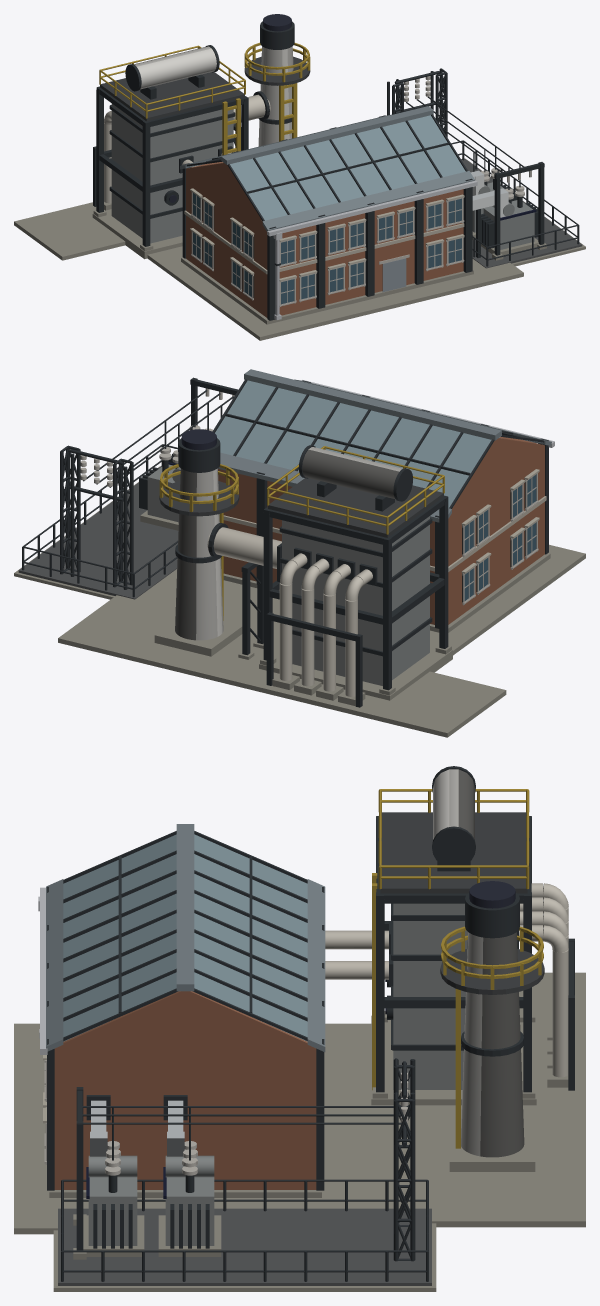
File: power_plant_lvl1.glb
3 renders of one model, top to bottom at view 1: azimuth 30°, elevation 25°; view 2: azimuth 150°, elevation 25°; view 3: azimuth 270°, elevation 25°, orthographic. The views are drawn at different scales.
Visible parts, largest first — view 1: power_plant_v2, power_plant_v2_Glass; view 2: power_plant_v2, power_plant_v2_Glass; view 3: power_plant_v2, power_plant_v2_Glass.
Part boxes in pixels (left/top/right/bottom): power_plant_v2: left=14, top=14, right=585, bottom=340; power_plant_v2_Glass: left=189, top=115, right=465, bottom=304; power_plant_v2: left=14, top=369, right=585, bottom=737; power_plant_v2_Glass: left=215, top=380, right=542, bottom=600; power_plant_v2: left=14, top=766, right=585, bottom=1291; power_plant_v2_Glass: left=63, top=834, right=307, bottom=1041.
Bounding box in the file's own units: 0.8111 × 0.3285 × 0.6258.
